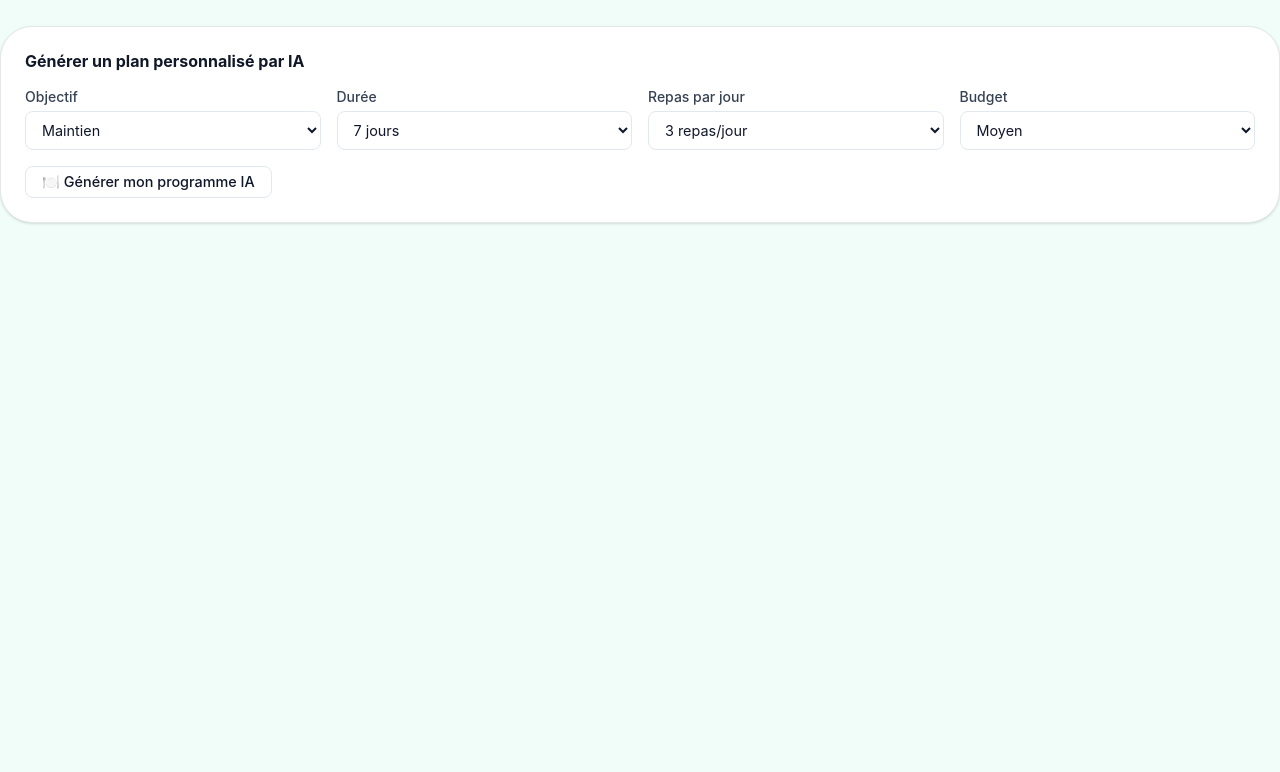
Scenario: ProgramPage › displays meal plan after generation
Click the button "🍽️ Générer mon programme IA".
click(148, 182)  # box [25,166,272,198]
(page scrolled)
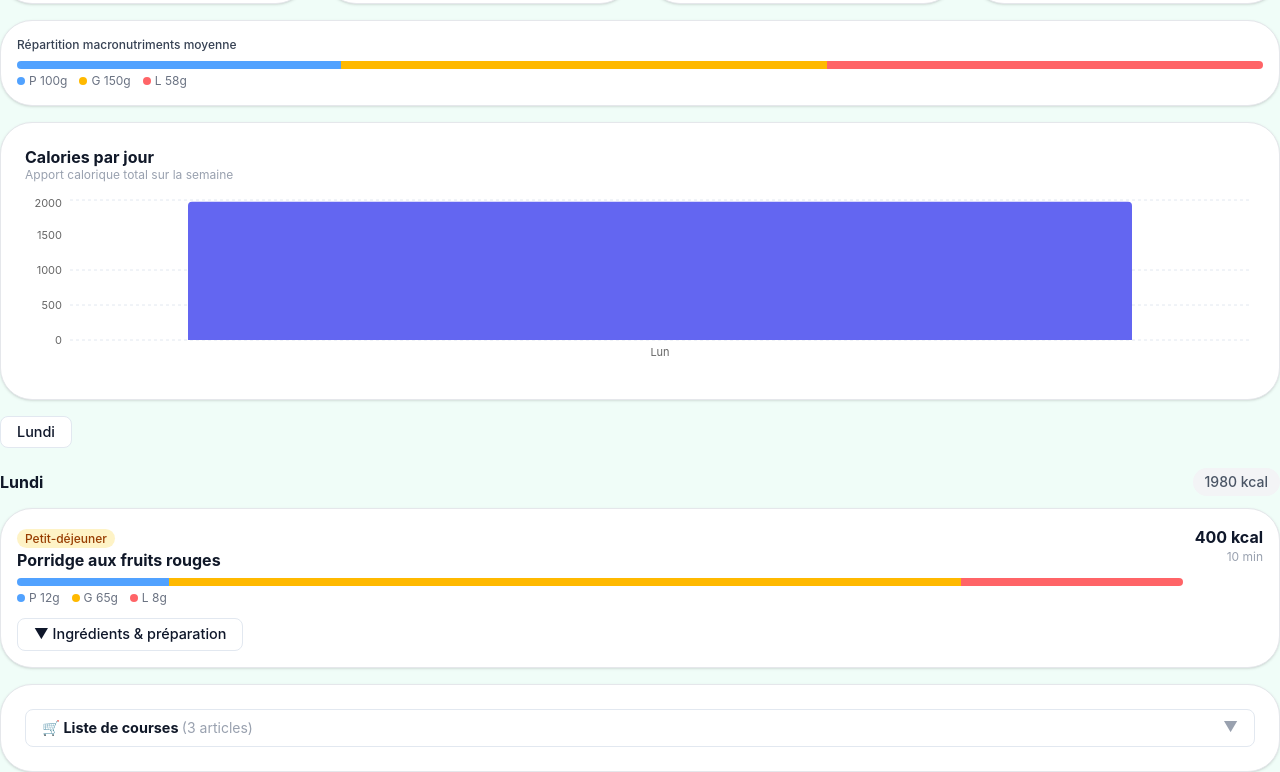
Result: the heading "Porridge aux fruits rouges" is shown at [17,550,221,570]
